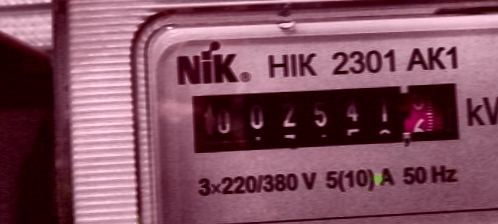0: (245, 100, 265, 133), (214, 107, 232, 136)
1: (373, 92, 390, 126)
2: (276, 97, 298, 132)
4: (342, 94, 360, 126)
5: (310, 98, 327, 131)
6: (409, 115, 425, 136)
screen: (176, 69, 479, 170)
